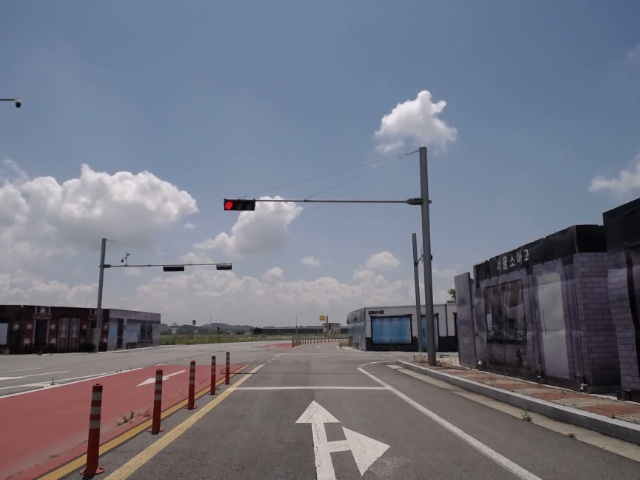red_3: (222, 197, 257, 212)
